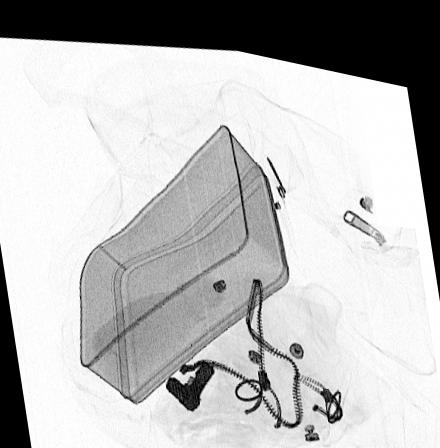Gun: (166, 350, 214, 401)
